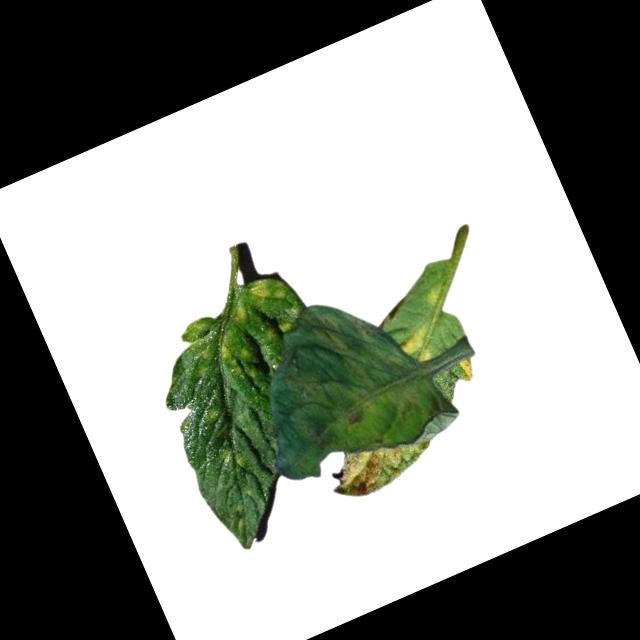Leaf_Mold: (324, 421, 442, 508), (265, 334, 333, 416), (305, 302, 355, 362), (395, 323, 443, 370), (246, 271, 293, 314), (345, 403, 375, 433), (224, 298, 253, 328), (452, 357, 480, 385)
